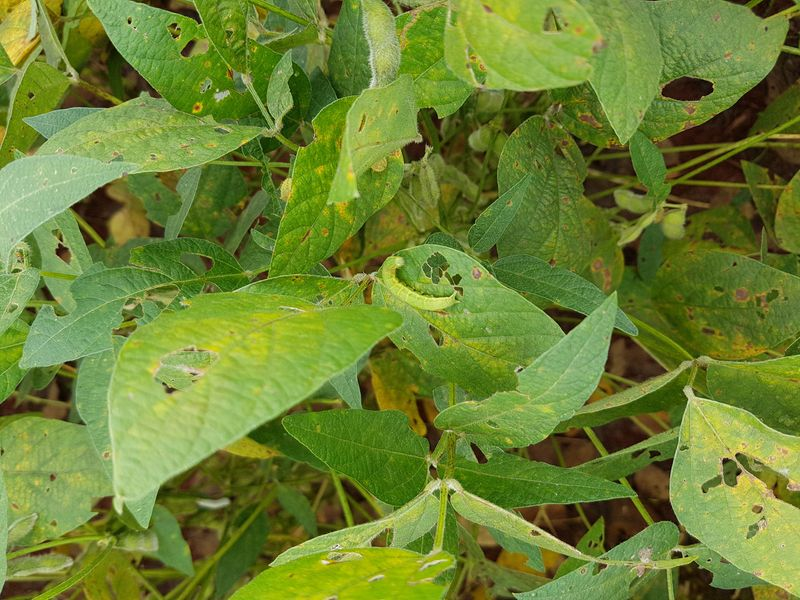Anticarsia_gemmatalis: (368, 244, 470, 324)
